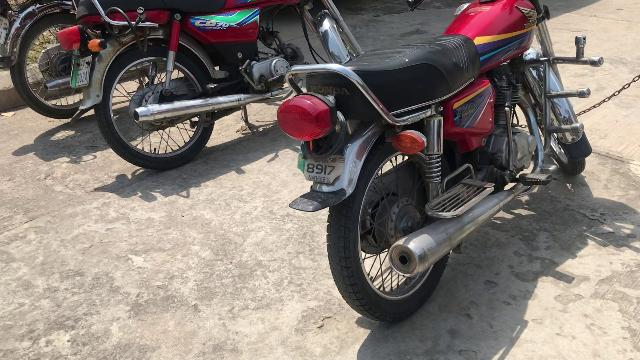plate: (294, 148, 348, 186)
